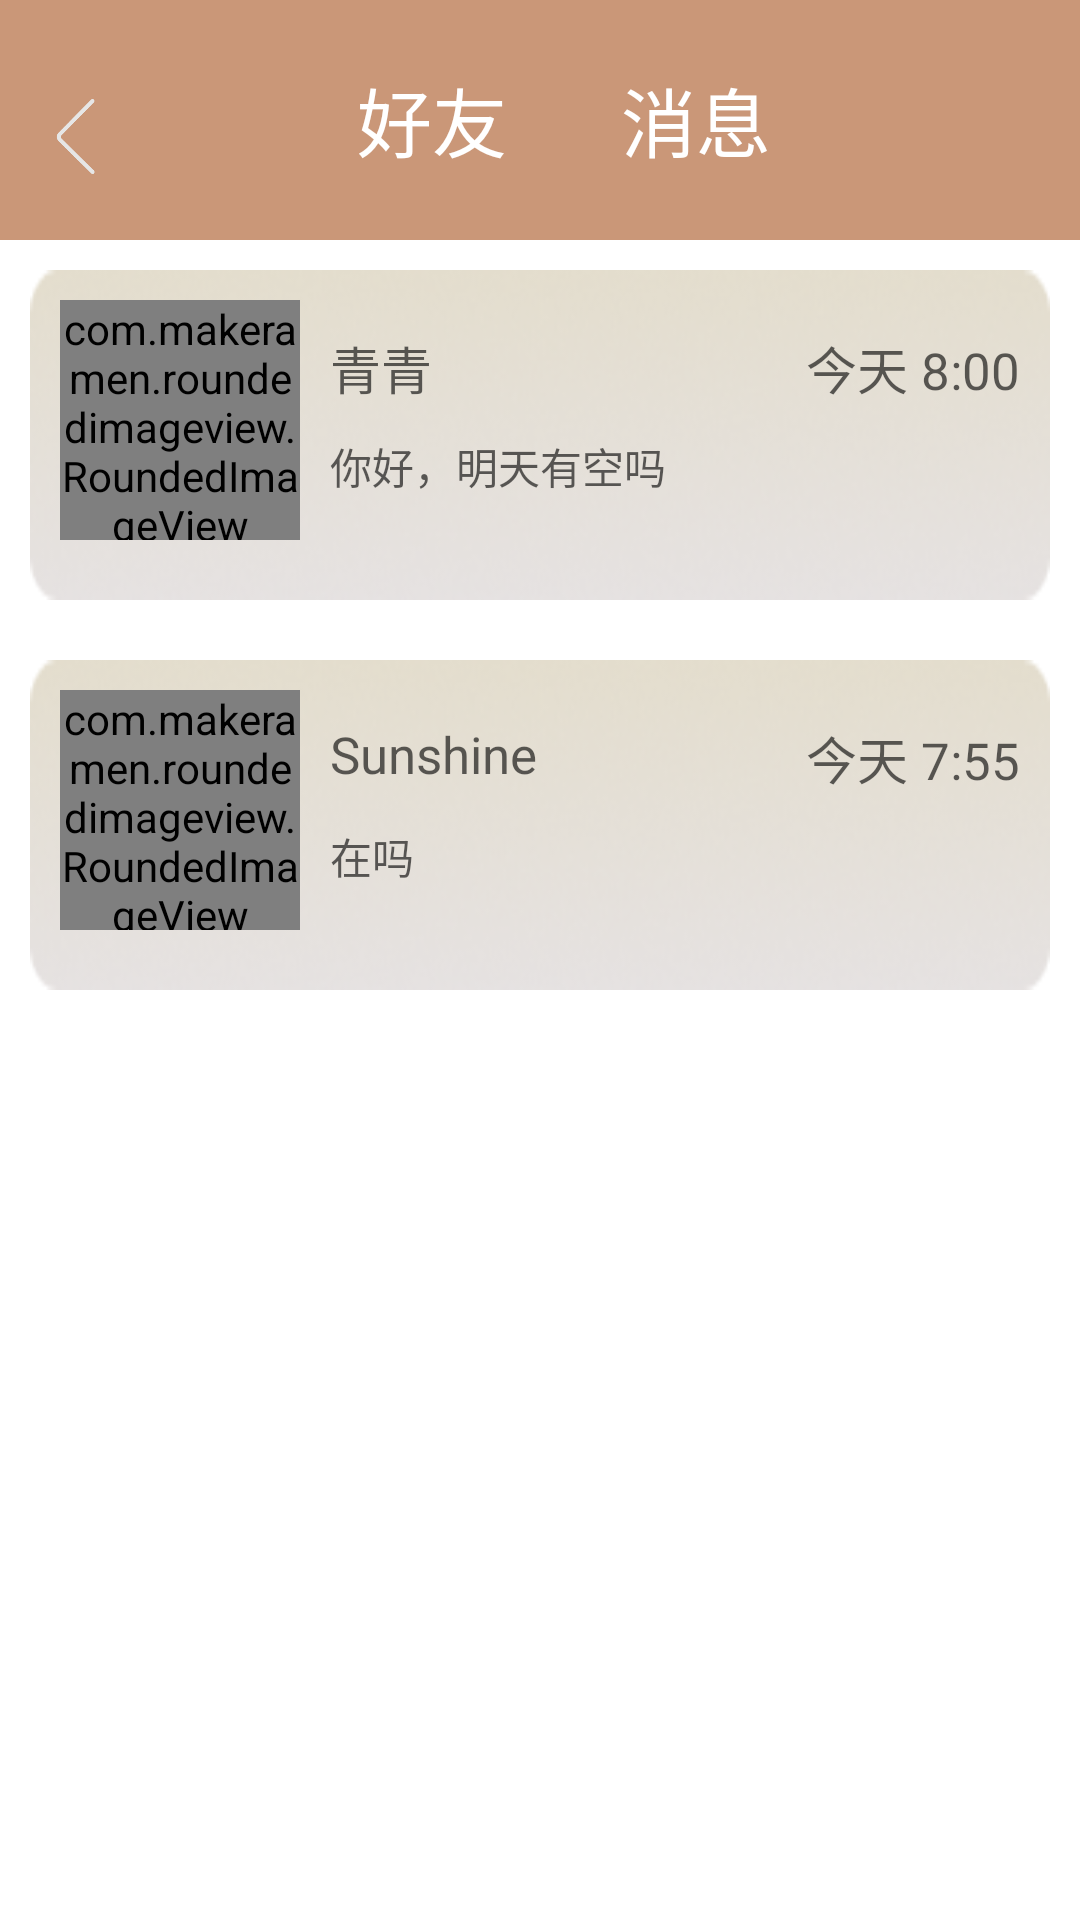

Named icons in this screenshot (1080×1920) and their centers, point (x, y):
back: point (76, 136)
